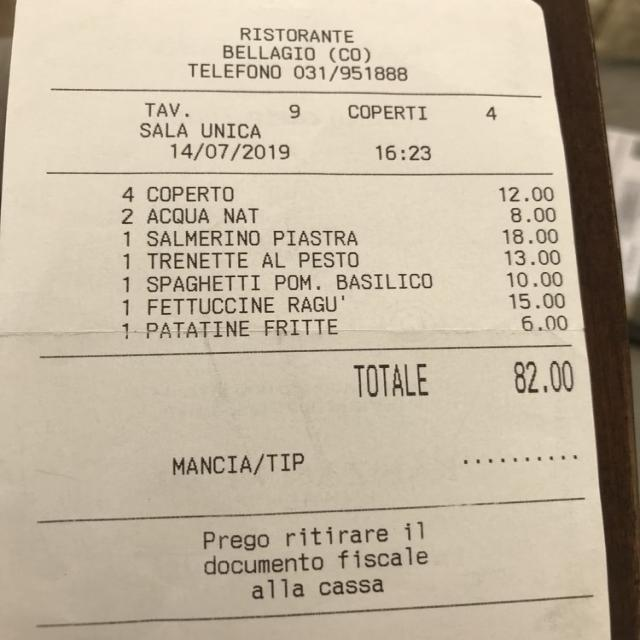TotalPrice: (353, 350, 580, 399)
